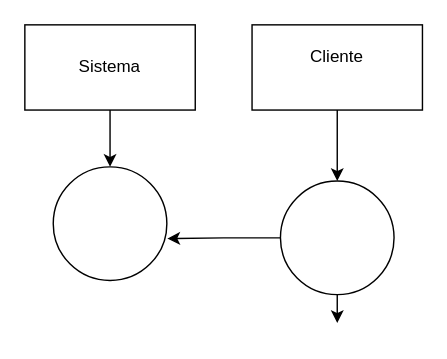
Image size: 447x359. Some labels were removed from this diagram. Here are the shapes that lost their labels. From the top down, the box of each, then its label:
(52, 165, 167, 280): Registra vuelos
(279, 180, 394, 295): Compra vuelos
